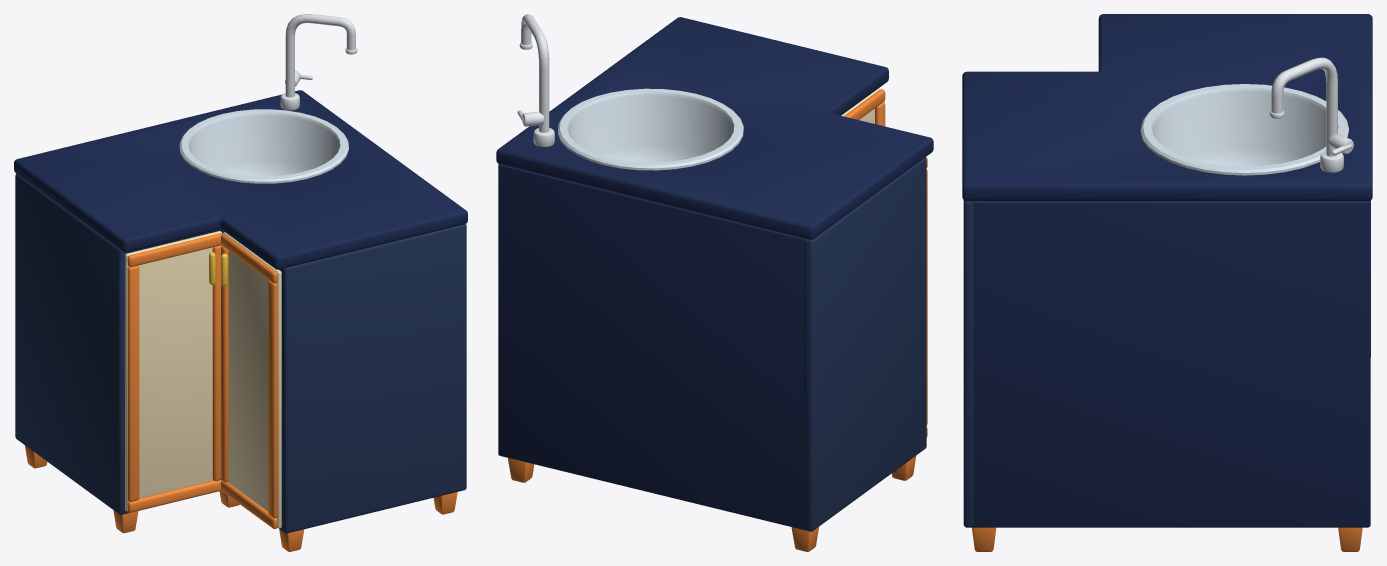
File: armario_cozinha_canto_pia_grafite_noite.glb
3 views of the same model, side by side, from view 1: azimuth 30°, elevation 25°; view 2: azimuth 150°, elevation 25°; view 3: azimuth 270°, elevation 25° (orthographic). The views are drawn at different scales.
Visible parts, largest first — view 1: armario_cozinha_canto_pia_grafite_noite, porta_1, porta_2; view 2: armario_cozinha_canto_pia_grafite_noite, porta_2, porta_1; view 3: armario_cozinha_canto_pia_grafite_noite.
Part boxes in pixels (x1=…): armario_cozinha_canto_pia_grafite_noite: x1=14, y1=14, x2=467, y2=551; porta_1: x1=125, y1=231, x2=221, y2=512; porta_2: x1=221, y1=232, x2=281, y2=528; armario_cozinha_canto_pia_grafite_noite: x1=496, y1=14, x2=933, y2=551; porta_2: x1=841, y1=88, x2=885, y2=126; porta_1: x1=925, y1=157, x2=927, y2=437; armario_cozinha_canto_pia_grafite_noite: x1=962, y1=14, x2=1372, y2=551.
Size of the model in its own units: 0.946 by 1.18 by 0.899.
1 material, 1 textured.
